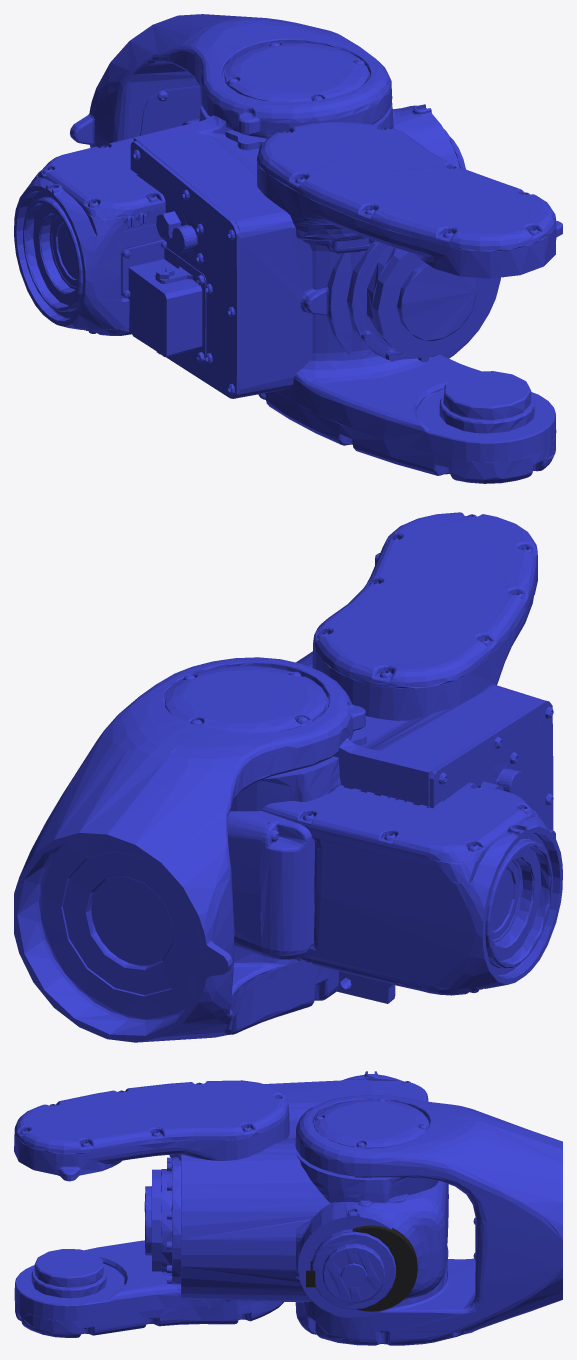
Rendered from arm.glb.
3 views of the same model, one above another, from view 1: azimuth 30°, elevation 25°; view 2: azimuth 150°, elevation 25°; view 3: azimuth 270°, elevation 25° (orthographic). The views are drawn at different scales.
Visible parts, largest first — view 1: b3, b1, b2, b5, b4; view 2: b2, b5, b3, b1, b4; view 3: b2, b3, b1, b4, b7, b5.
Part boxes in pixels (x1=…): b3: x1=199, y1=103, x2=562, y2=483; b1: x1=128, y1=115, x2=500, y2=398; b2: x1=70, y1=14, x2=392, y2=147; b5: x1=14, y1=133, x2=166, y2=335; b4: x1=182, y1=104, x2=465, y2=169; b2: x1=14, y1=657, x2=365, y2=1042; b5: x1=261, y1=782, x2=562, y2=995; b3: x1=230, y1=512, x2=537, y2=852; b1: x1=296, y1=651, x2=555, y2=1003; b4: x1=227, y1=811, x2=314, y2=959; b2: x1=295, y1=1095, x2=562, y2=1345; b3: x1=14, y1=1080, x2=448, y2=1337; b1: x1=144, y1=1079, x2=371, y2=1302; b4: x1=296, y1=1181, x2=448, y2=1317; b7: x1=306, y1=1225, x2=417, y2=1311; b5: x1=342, y1=1071, x2=428, y2=1101.
Bounding box in the file's own units: 0.3126 × 0.1901 × 0.4727.
